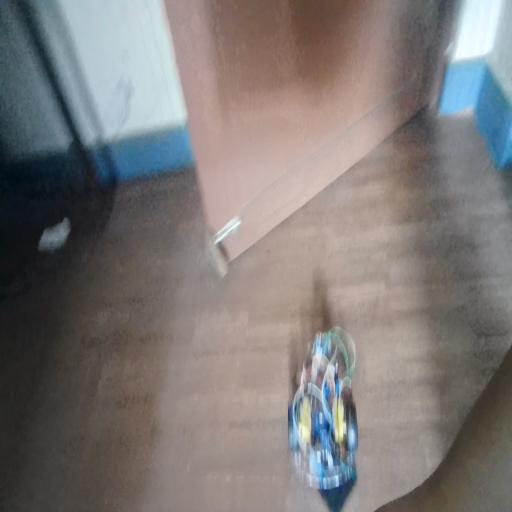car: (295, 332, 374, 490)
